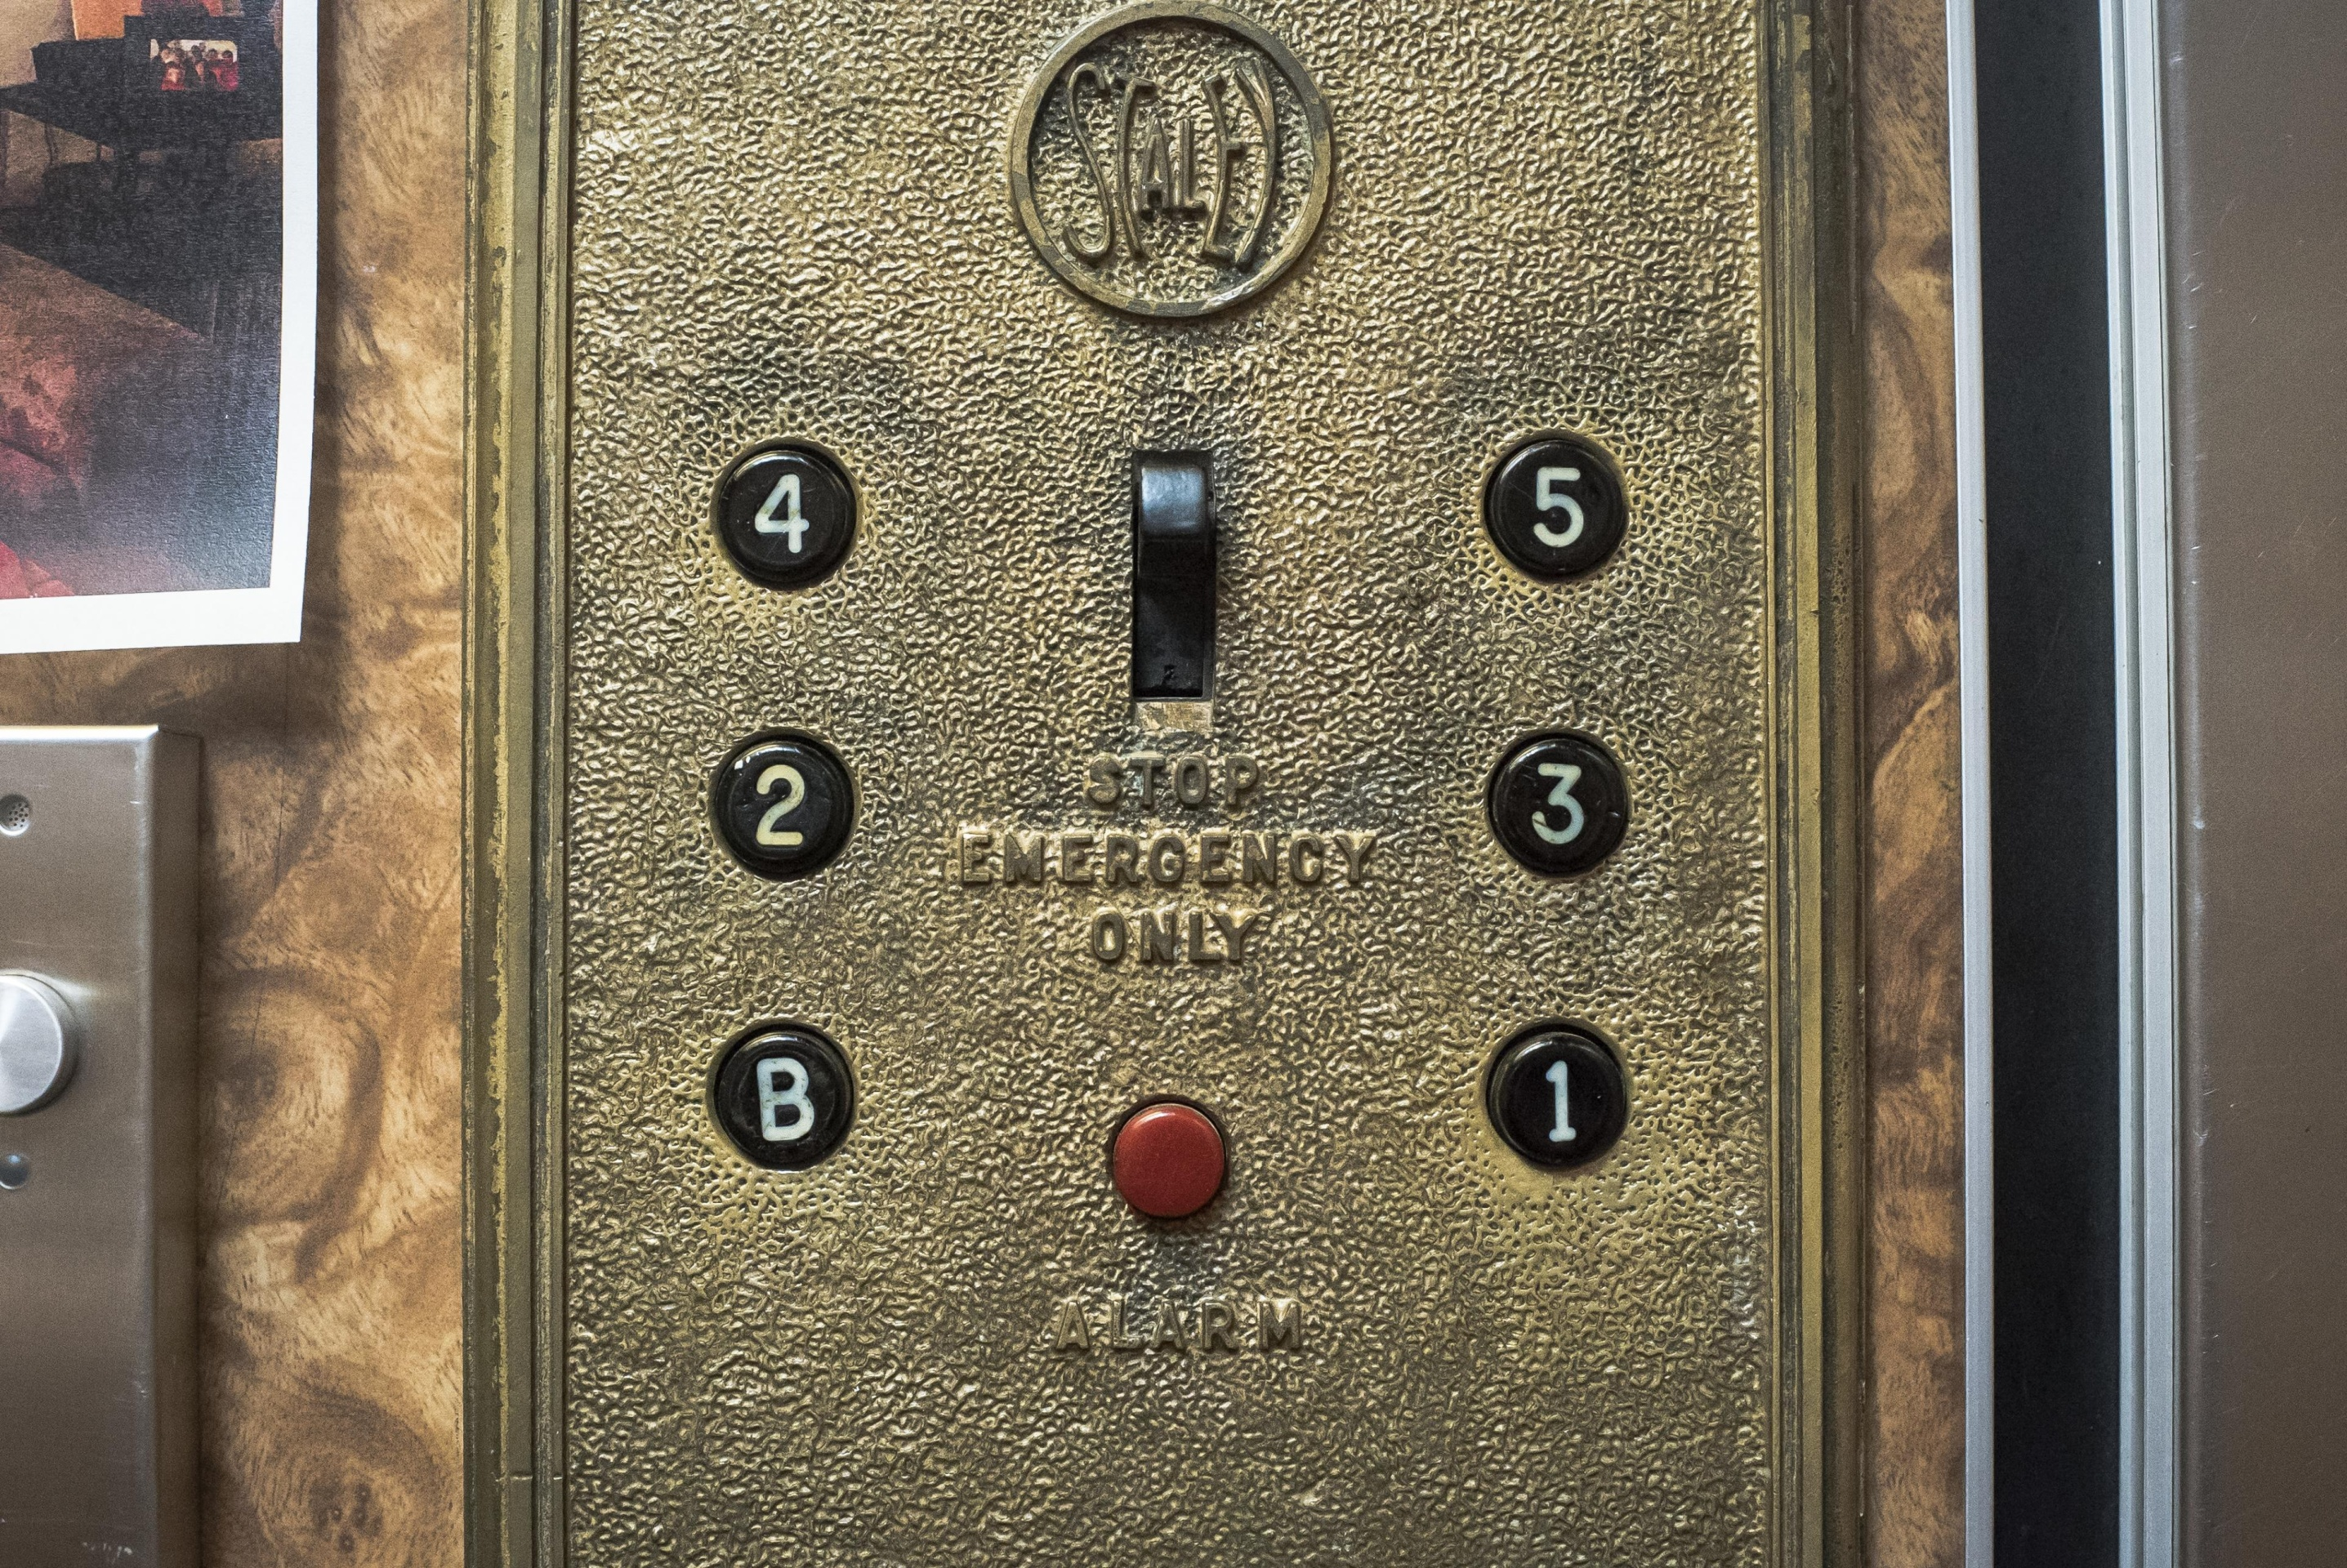1: (1482, 1013, 1631, 1178)
2: (705, 723, 858, 878)
3: (1484, 726, 1629, 878)
4: (711, 439, 861, 595)
5: (1472, 423, 1633, 590)
B: (704, 1020, 859, 1171)
empty: (1106, 1097, 1234, 1221)
switch: (1118, 443, 1234, 742)
